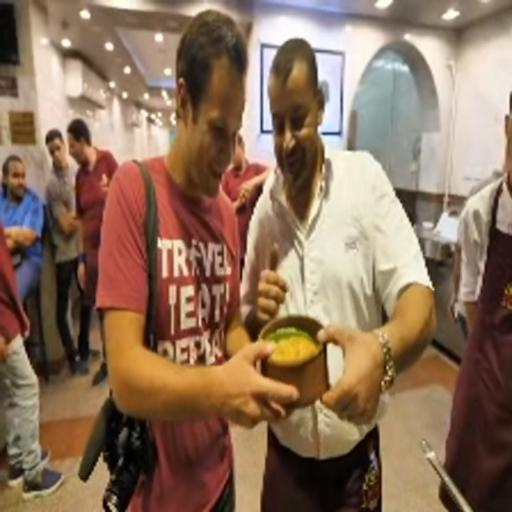nao-violencia: (84, 9, 442, 485)
